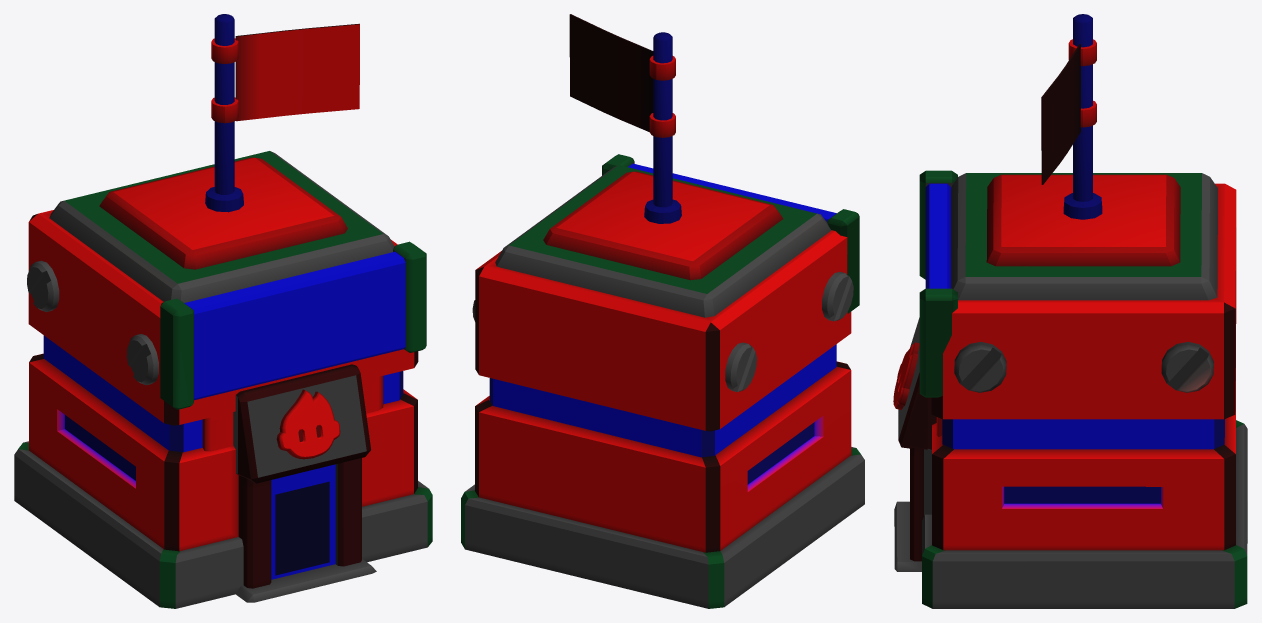
File: TowerBetter.fbx
The picture shows the model from 3 angles, left to right: view 1: azimuth 30°, elevation 25°; view 2: azimuth 150°, elevation 25°; view 3: azimuth 270°, elevation 25°; orthographic projection. The views are drawn at different scales.
Parts seen in each view (by area): view 1: 3D_EnemyBase_NEW; view 2: 3D_EnemyBase_NEW; view 3: 3D_EnemyBase_NEW.
Part boxes in pixels (bbox=[...]): 3D_EnemyBase_NEW: bbox=[14, 14, 432, 608]; 3D_EnemyBase_NEW: bbox=[461, 14, 864, 608]; 3D_EnemyBase_NEW: bbox=[893, 14, 1247, 608].
Size of the model in its own units: 116 by 205 by 125.
